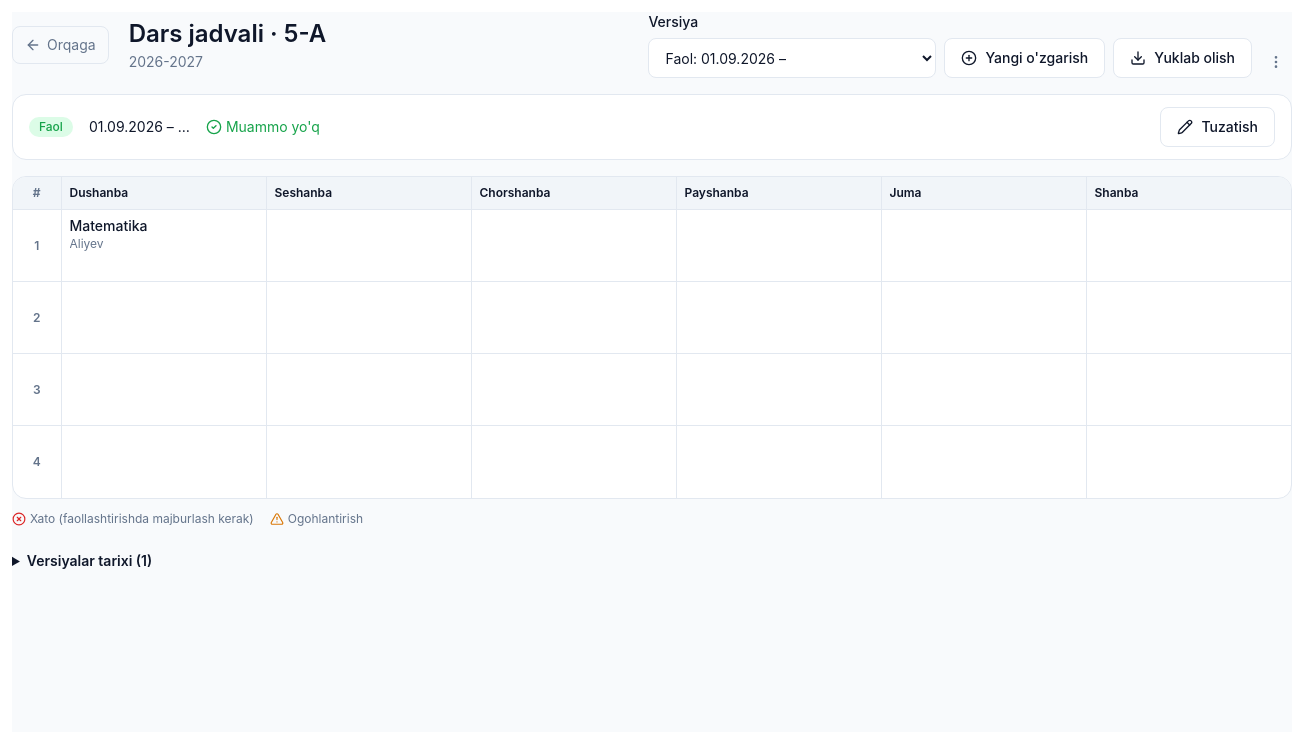
ClassTimetableView › faol versiya faqat ko'rish; 'Tuzatish' ogohlantirish bilan; manage yo'q bo'lsa tugma yo'q
Check: the button with test id "new-change" is shown, box [944, 38, 1105, 78]
Click the button with test id "correct-start" at (1218, 127), box [1160, 107, 1275, 147]
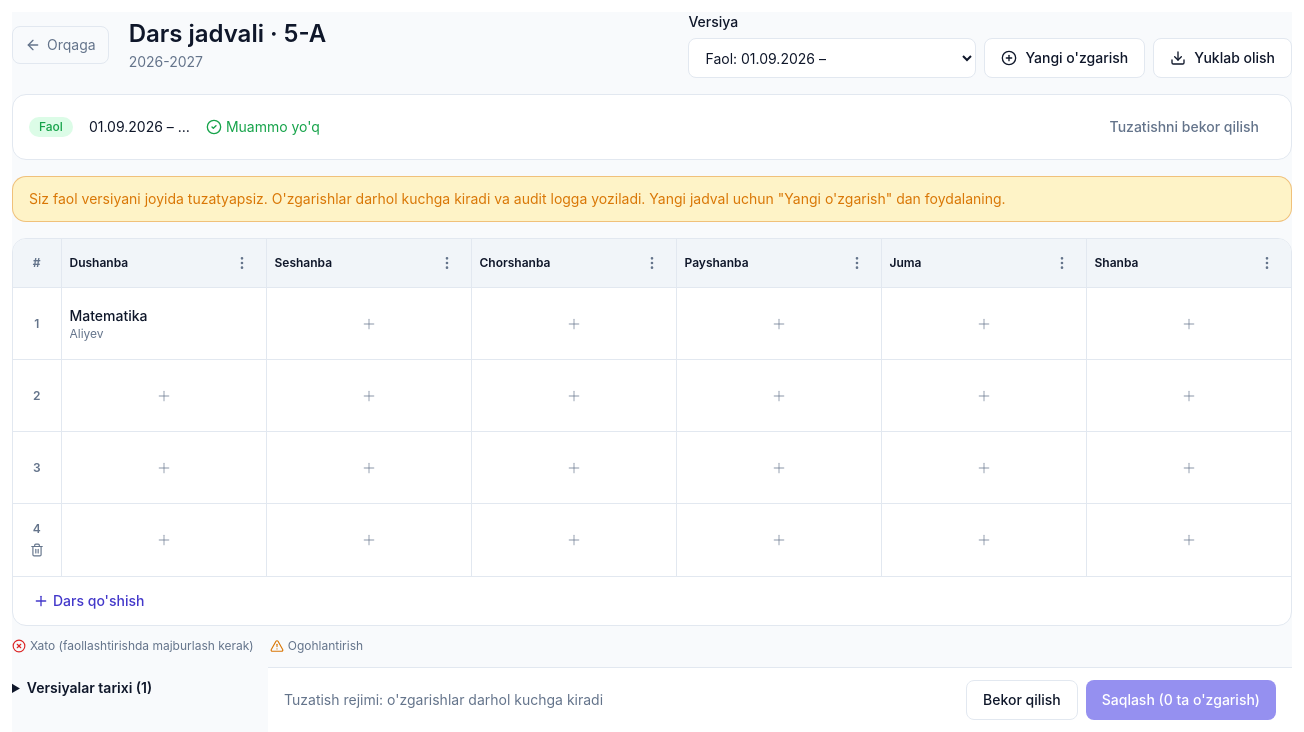
Check: the button with test id "cell-1-1" is shown, box [62, 288, 266, 359]
Check: the text with test id "correct-banner" shows "Siz faol versiyani j", box [29, 190, 1006, 207]
